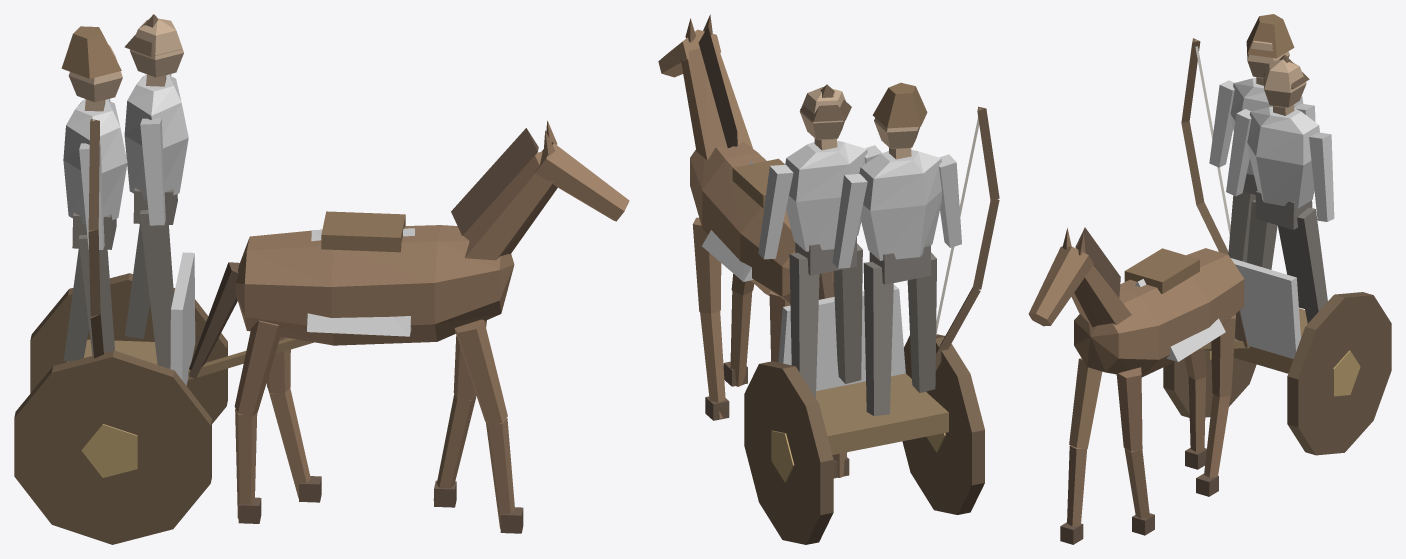
The model's file is chariot-archer.glb.
3 renders of one model, left to right at view 1: azimuth 30°, elevation 25°; view 2: azimuth 150°, elevation 25°; view 3: azimuth 270°, elevation 25°, orthographic. The views are drawn at different scales.
Parts seen in each view (by area): view 1: LOD0; view 2: LOD0; view 3: LOD0.
Part boxes in pixels (<box>): LOD0: <box>14,14,629,544</box>; LOD0: <box>658,14,999,544</box>; LOD0: <box>1028,14,1391,544</box>.
Size of what is drawn, in the model's own units: 1.41 by 1.34 by 1.1.
